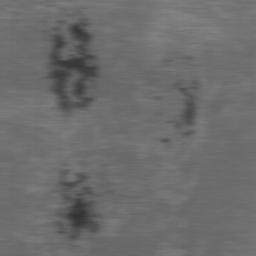Iron scale compression: (45, 22, 100, 112), (55, 169, 103, 239), (180, 79, 199, 123), (183, 128, 198, 136), (159, 138, 170, 144)
